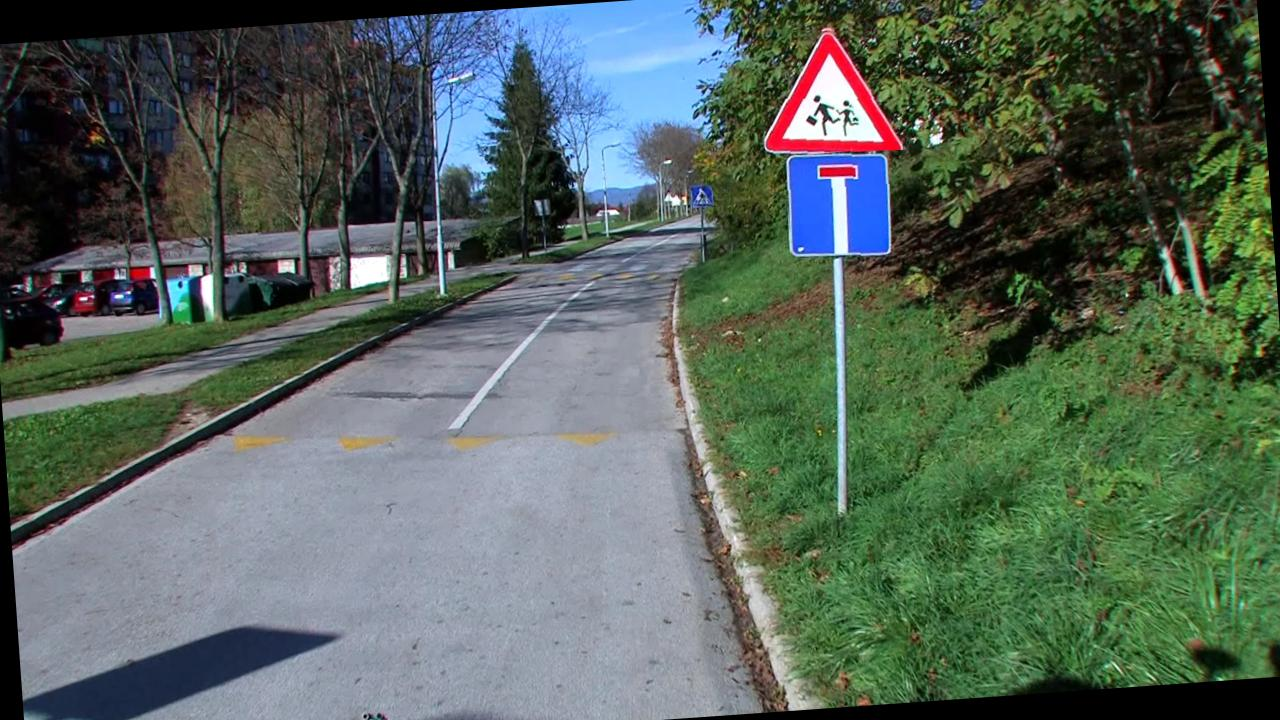Squared: (783, 148, 894, 262), (688, 182, 714, 207)
Triangle: (756, 22, 905, 158)
